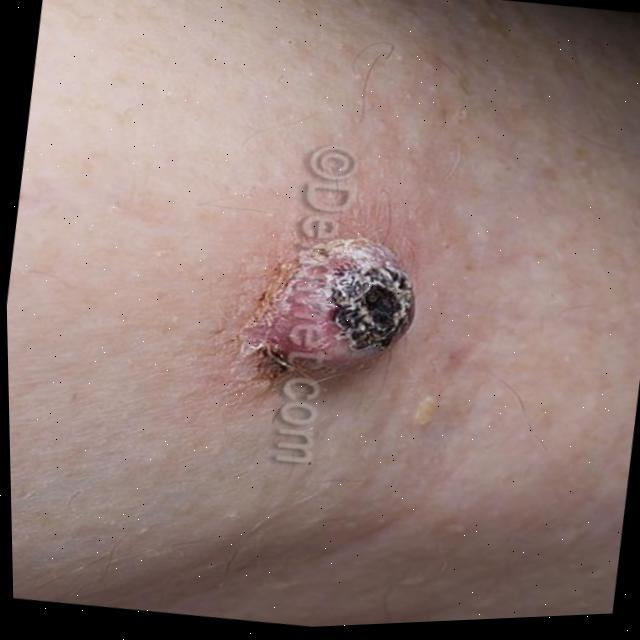Eczema: (269, 229, 438, 383)
